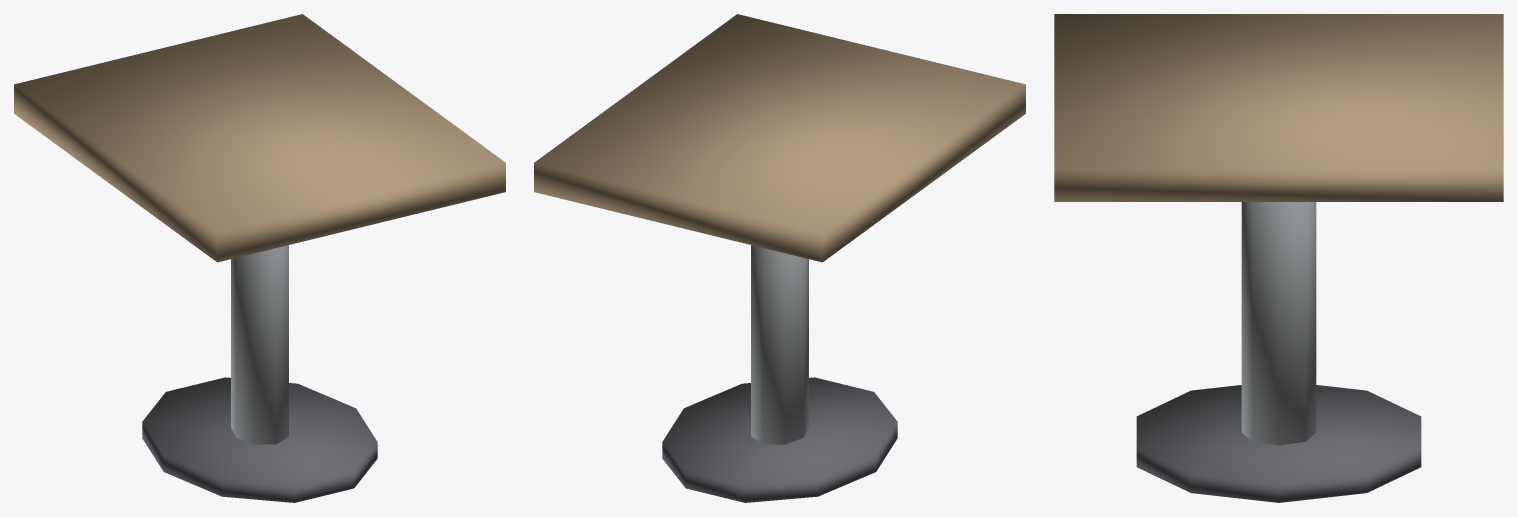
The model's file is diner_two_top__deep.glb.
3 renders of one model, left to right at view 1: azimuth 30°, elevation 25°; view 2: azimuth 150°, elevation 25°; view 3: azimuth 270°, elevation 25°, orthographic. The views are drawn at different scales.
Visible parts, largest first — view 1: world; view 2: world; view 3: world.
Part boxes in pixels (left/top/right/bottom): world: left=14, top=14, right=505, bottom=502; world: left=534, top=14, right=1025, bottom=502; world: left=1054, top=14, right=1503, bottom=502.
Bounding box in the file's own units: 0.72 × 0.775 × 0.8784.
